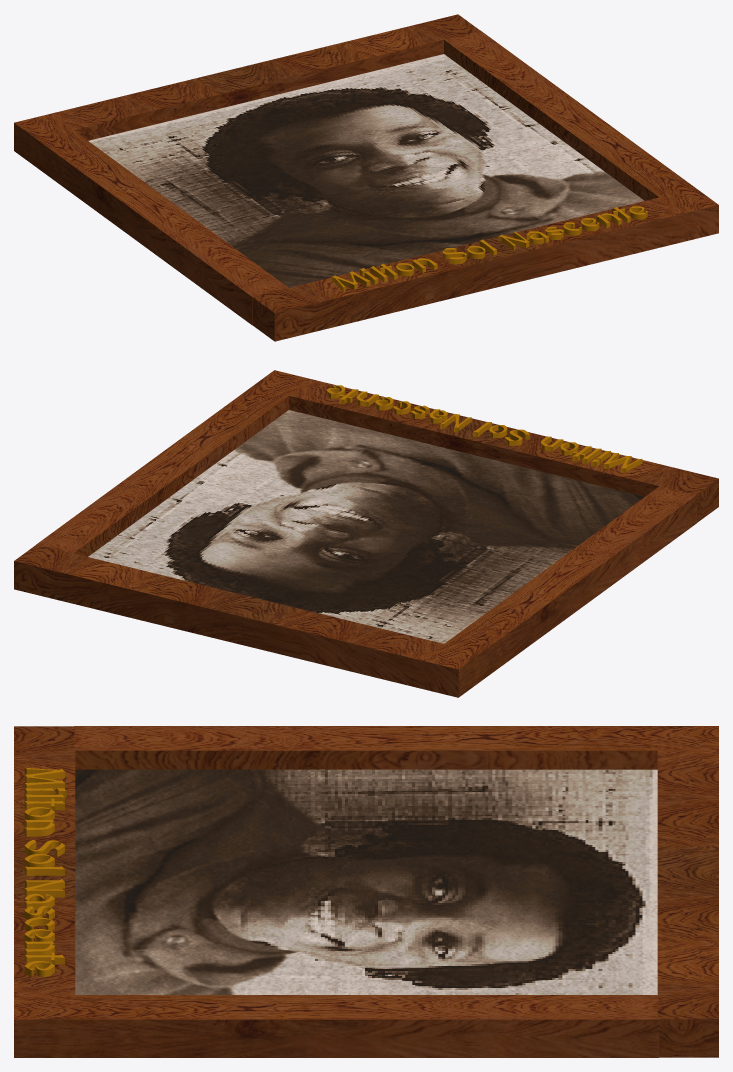
The model's file is newmonkframe6.glb.
3 views of the same model, one above another, from view 1: azimuth 30°, elevation 25°; view 2: azimuth 150°, elevation 25°; view 3: azimuth 270°, elevation 25° (orthographic). The views are drawn at different scales.
Parts seen in each view (by area): view 1: Plane, Cube.001, Cube, William Dafilo; view 2: Plane, Cube, Cube.001, William Dafilo; view 3: Plane, Cube.001, Cube, William Dafilo.
Boxes of the visible parts, left/top/right/bottom form: Plane: left=88, top=54, right=644, bottom=287; Cube.001: left=252, top=30, right=718, bottom=341; Cube: left=14, top=14, right=480, bottom=325; William Dafilo: left=331, top=206, right=647, bottom=292; Plane: left=88, top=410, right=644, bottom=643; Cube: left=14, top=486, right=696, bottom=697; Cube.001: left=36, top=370, right=718, bottom=556; William Dafilo: left=327, top=385, right=642, bottom=473; Plane: left=75, top=769, right=657, bottom=994; Cube.001: left=14, top=726, right=659, bottom=1057; Cube: left=74, top=726, right=718, bottom=1057; William Dafilo: left=24, top=767, right=66, bottom=976.
Size of the model in its own units: 0.6743 by 0.0482 by 0.6847.
3 materials, 2 textured.
